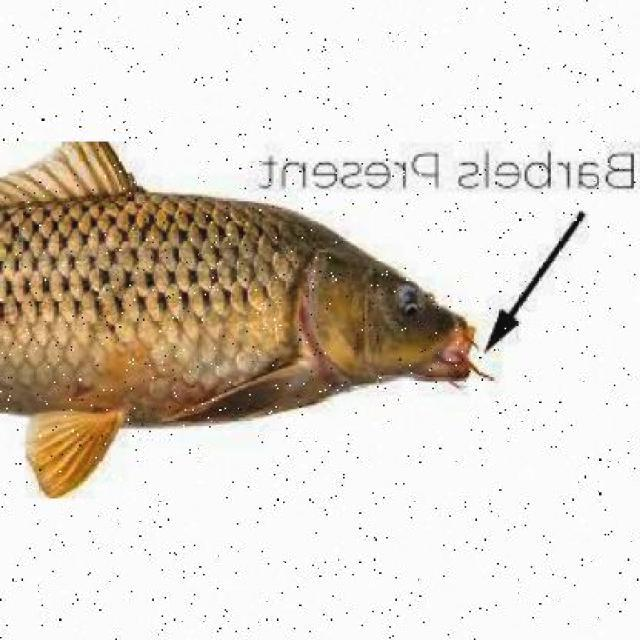ikan-mas: (2, 187, 484, 447)
